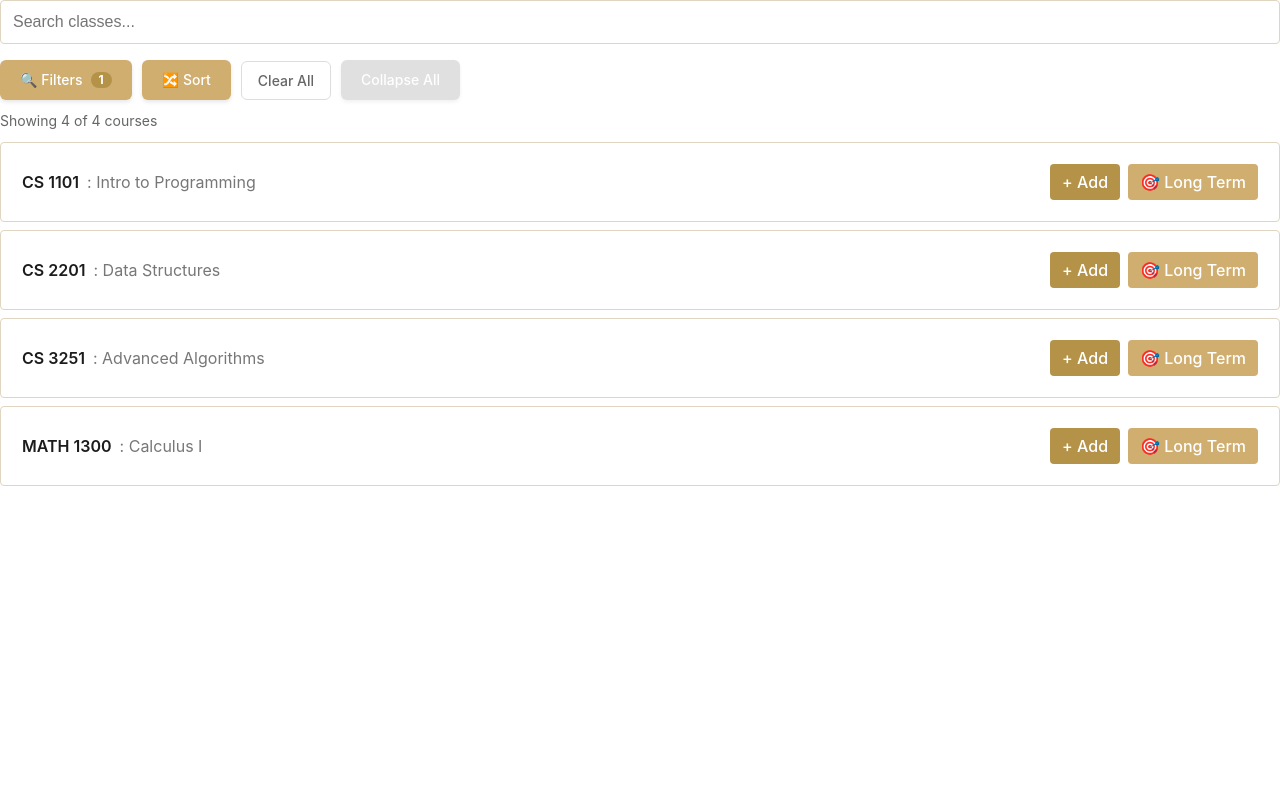
Test case: SearchPage › Filter Functionality › opens filter modal when filters button is clicked
Click the button "🔍 Filters 1".
click(66, 80)  # box [0, 60, 132, 100]
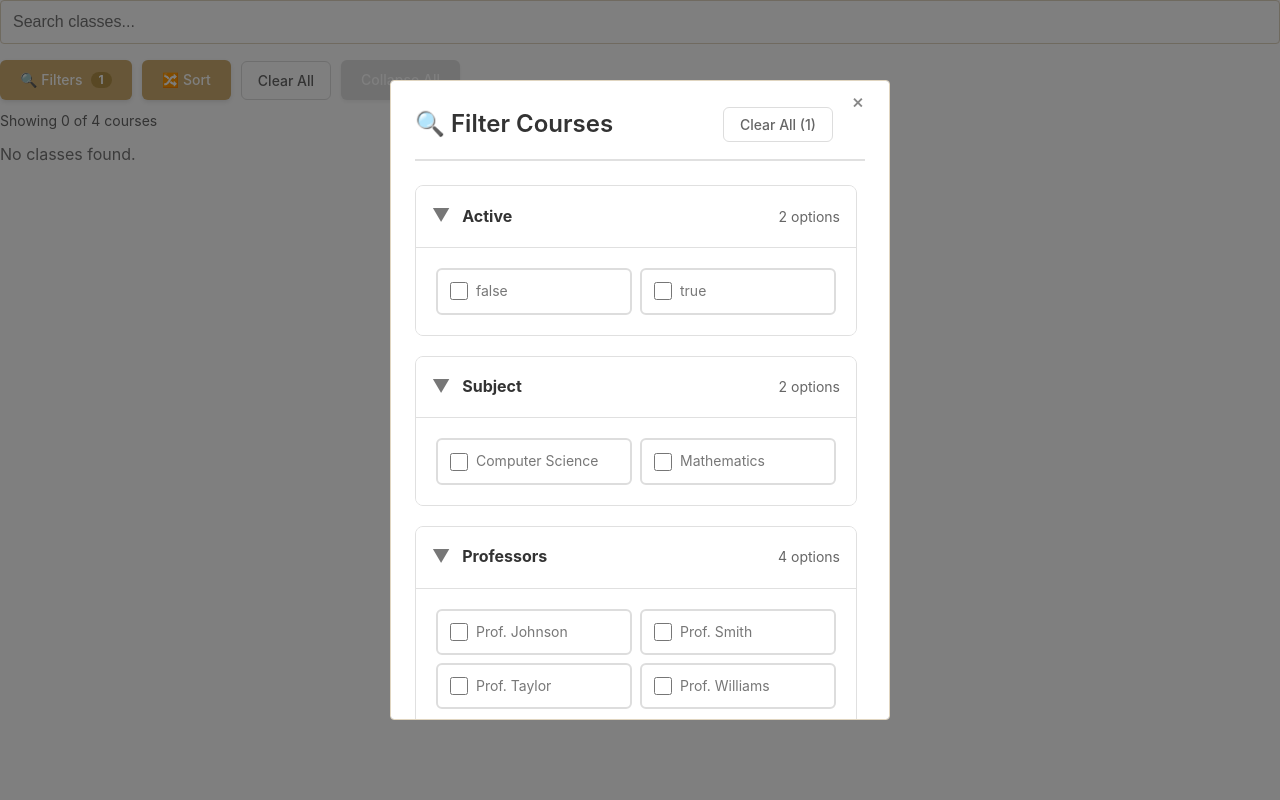
Expected: the heading "🔍 Filter Courses" is shown, [415, 109, 613, 138]
